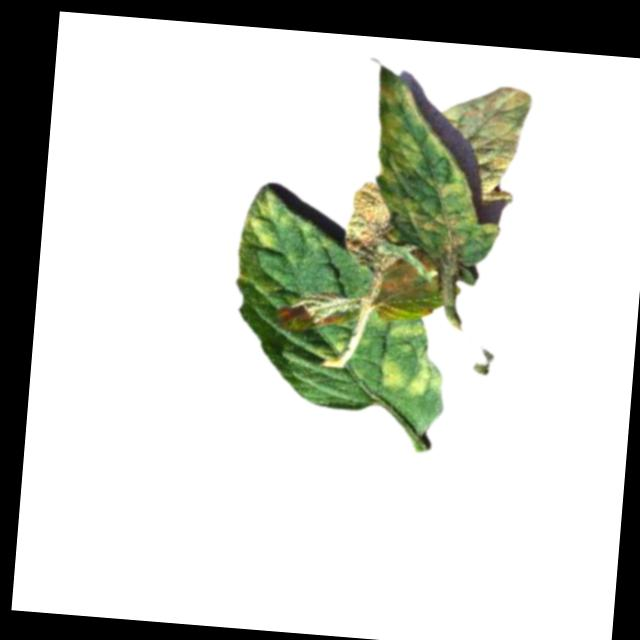Leaf_Mold: (440, 82, 531, 197), (383, 187, 505, 257), (371, 66, 433, 193), (233, 182, 297, 296), (378, 320, 456, 401), (342, 177, 398, 274)
